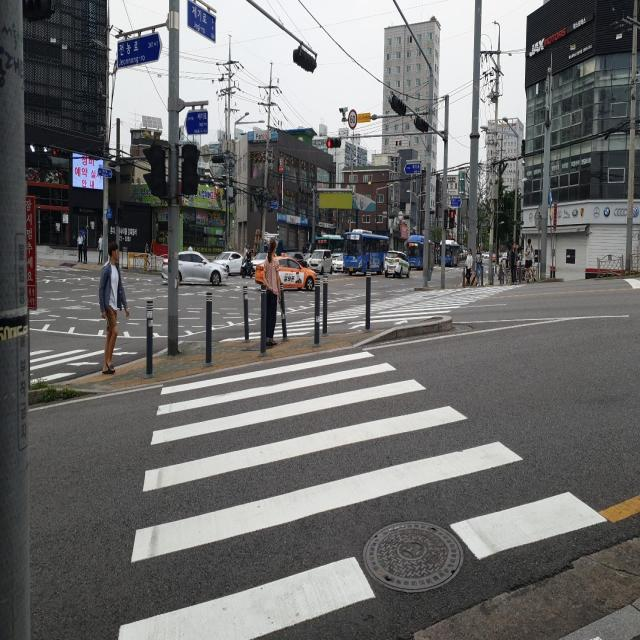빨간불: (448, 209, 456, 230)
횡단보도: (114, 343, 609, 640), (232, 286, 530, 346), (28, 341, 142, 391)
